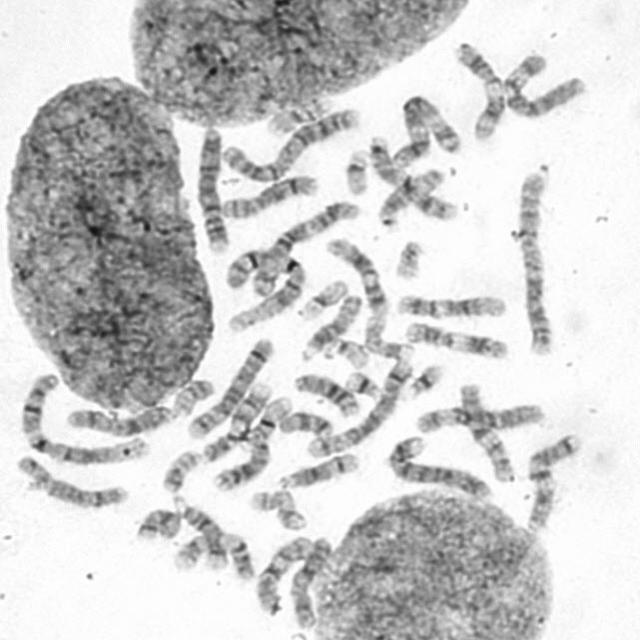A1: (15, 370, 150, 464), (220, 244, 308, 336)
A2: (216, 102, 362, 184), (514, 165, 556, 357)
A3: (244, 197, 362, 297), (388, 91, 463, 167)
B4: (388, 430, 493, 500), (192, 122, 230, 249)
B5: (304, 355, 414, 460), (190, 343, 276, 439)
C10: (455, 383, 512, 483), (252, 540, 318, 618)
C11: (450, 38, 506, 141), (402, 318, 512, 358)
C12: (322, 234, 389, 316), (392, 294, 510, 320)
C6: (499, 60, 589, 122), (412, 400, 546, 436)
C7: (364, 131, 460, 222), (521, 428, 584, 533)
C8: (12, 451, 134, 510), (216, 172, 322, 220)
C9: (198, 377, 274, 464), (177, 528, 250, 578)
D13: (290, 369, 362, 418), (210, 441, 272, 492)
D14: (168, 496, 230, 572), (276, 448, 360, 491)
D15: (374, 165, 458, 228), (296, 292, 364, 363)
E16: (260, 93, 334, 138), (247, 392, 294, 441)
E17: (246, 486, 308, 532), (361, 313, 416, 361)
E18: (134, 502, 182, 542), (274, 408, 334, 438)
F19: (296, 278, 356, 320), (342, 146, 372, 197)
F20: (158, 447, 204, 494), (168, 375, 218, 418)
G21: (404, 360, 446, 400), (342, 367, 382, 399)
G22: (322, 335, 372, 370), (390, 237, 424, 280)
X: (62, 398, 178, 438), (290, 532, 334, 634)
